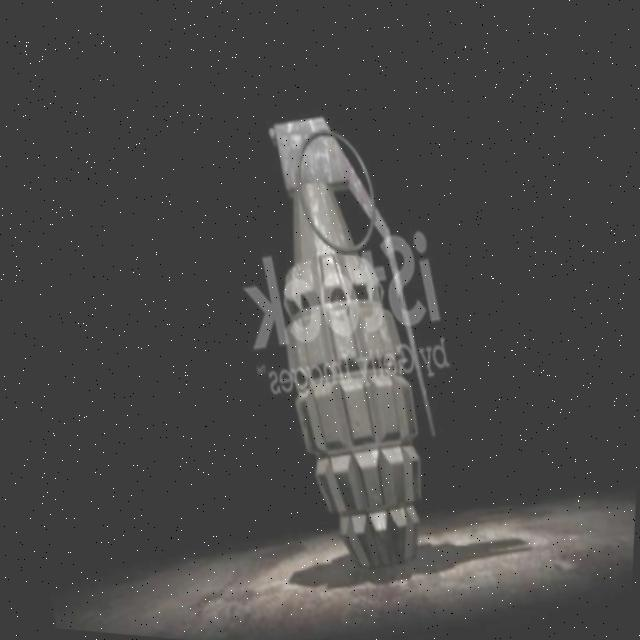grenade: (215, 87, 485, 584)
